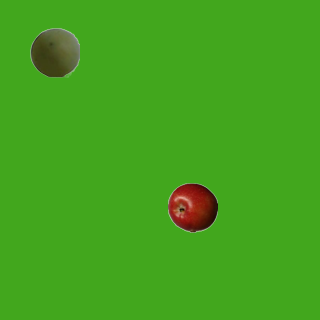Apple Braeburn: (167, 182, 217, 232)
Grape White 4: (29, 27, 79, 77)
